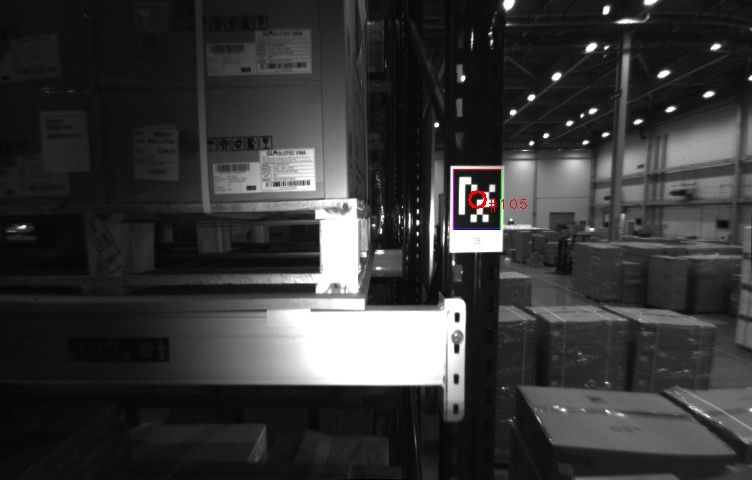True Barcode: (134, 123, 179, 180)
